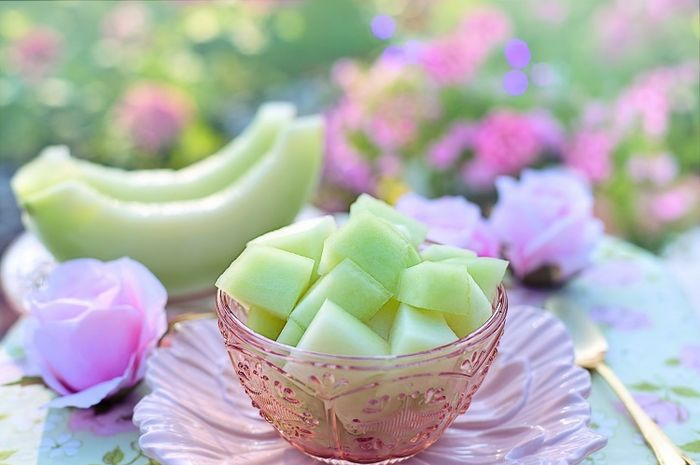Melon: (32, 126, 344, 305)
